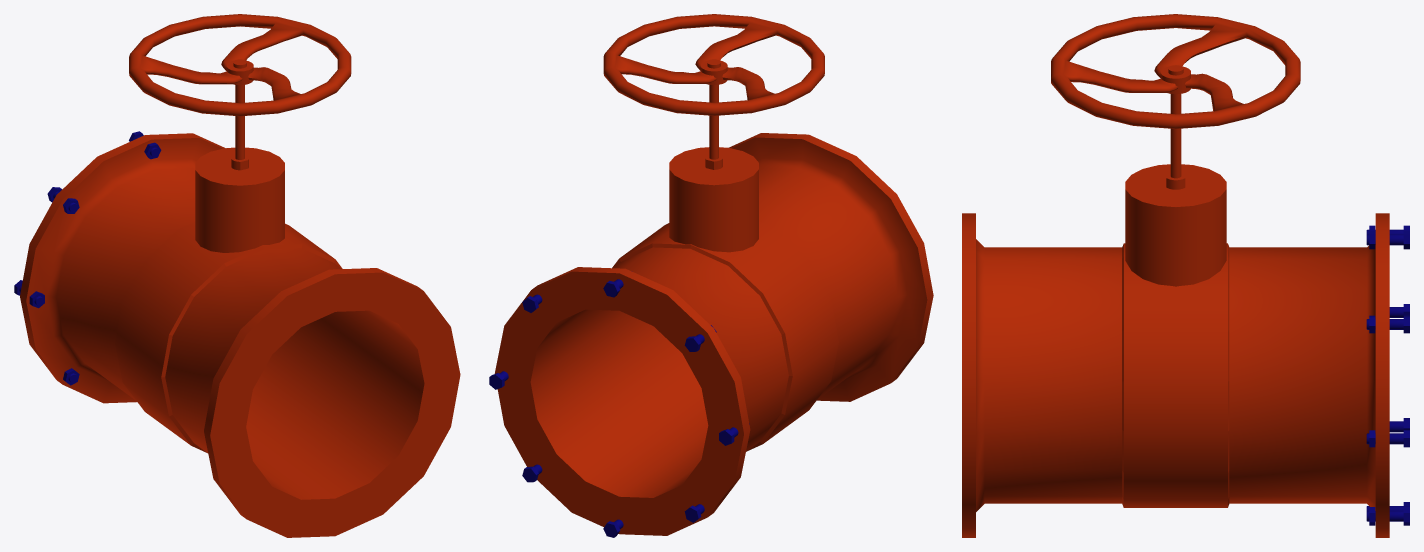
Rendered from MSP_Valve02_BoltX8_02.FBX.
3 renders of one model, left to right at view 1: azimuth 30°, elevation 25°; view 2: azimuth 150°, elevation 25°; view 3: azimuth 270°, elevation 25°, orthographic. The views are drawn at different scales.
Visible parts, largest first — view 1: PipeValve_up1_01_Low001, Valve_02_Low004, Bolt_005; view 2: PipeValve_up1_01_Low001, Valve_02_Low004, Bolt_005; view 3: PipeValve_up1_01_Low001, Valve_02_Low004, Bolt_005.
Boxes of the visible parts, box(x1,y1,x2,y2) form: PipeValve_up1_01_Low001: box(20, 59, 460, 537); Valve_02_Low004: box(129, 14, 351, 116); Bolt_005: box(14, 131, 161, 385); PipeValve_up1_01_Low001: box(494, 59, 933, 535); Valve_02_Low004: box(603, 14, 824, 115); Bolt_005: box(489, 279, 749, 537); PipeValve_up1_01_Low001: box(962, 65, 1389, 537); Valve_02_Low004: box(1051, 14, 1300, 128); Bolt_005: box(1366, 225, 1409, 525).
Bounding box in the file's own units: 38 × 59.02 × 52.38.
